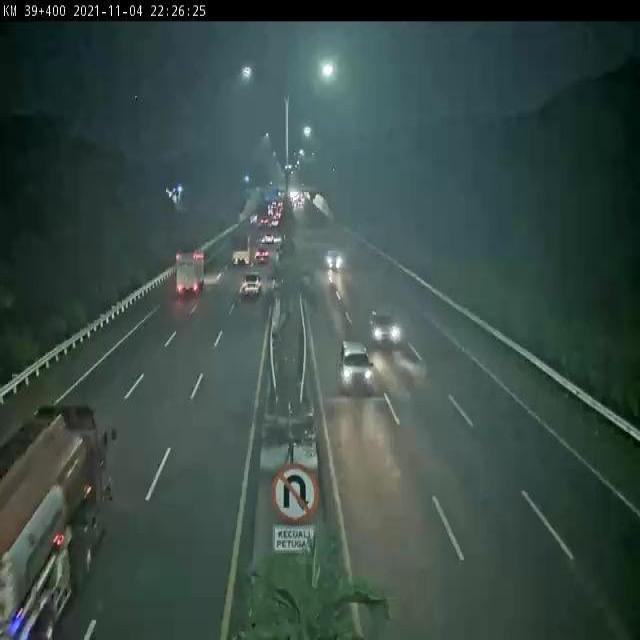car: (334, 334, 373, 390), (370, 308, 398, 348), (239, 268, 265, 299), (323, 244, 345, 272), (256, 247, 269, 264)
truck-l-: (177, 251, 205, 296)
truck-m-: (233, 233, 250, 267)
truck-xl-: (0, 398, 111, 640)
